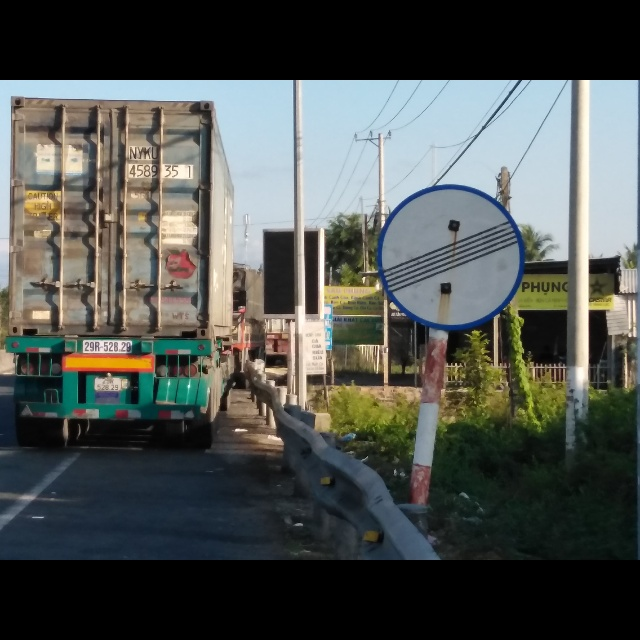Hết tất cả các lệnh cấm: (369, 179, 527, 330)
